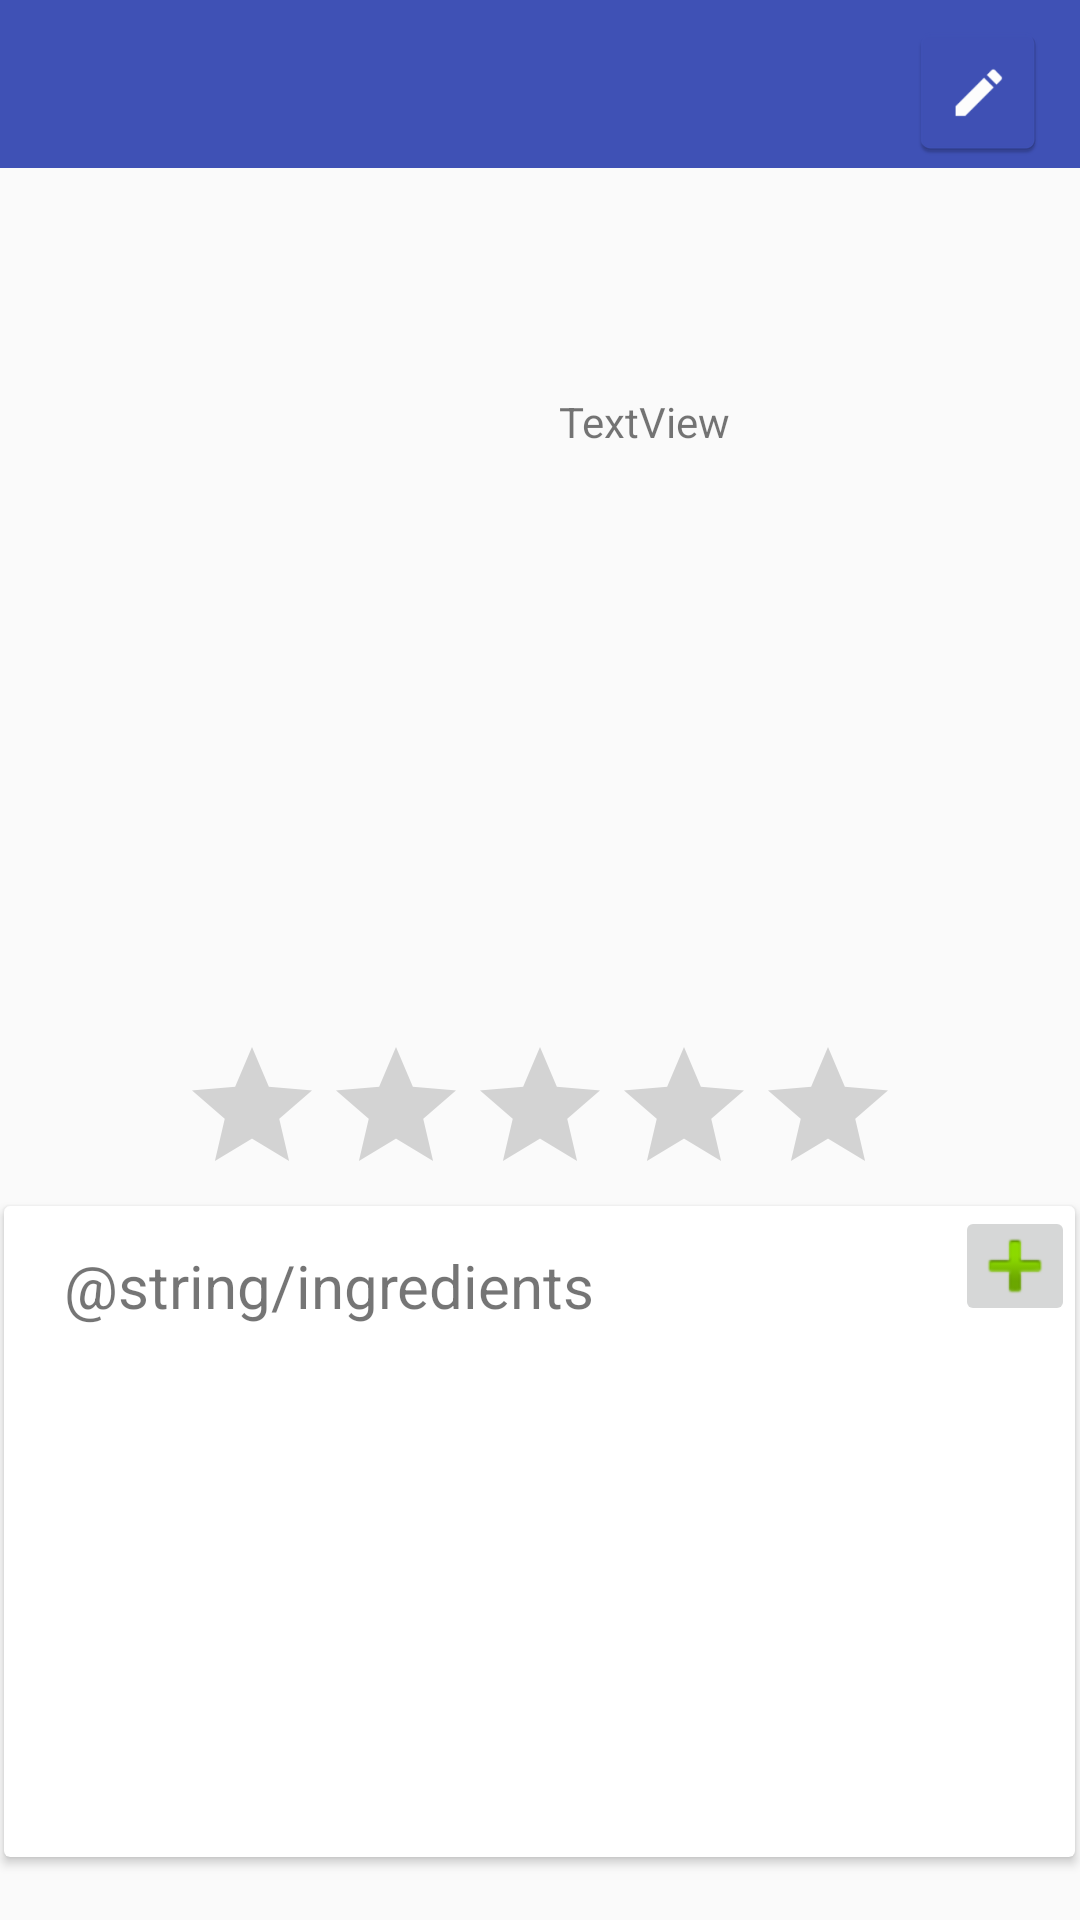

Where to tap for icons on this 1080 × 1920 app screen, as (x,y):
add: (1015,1266)
dish edit: (978,110)
